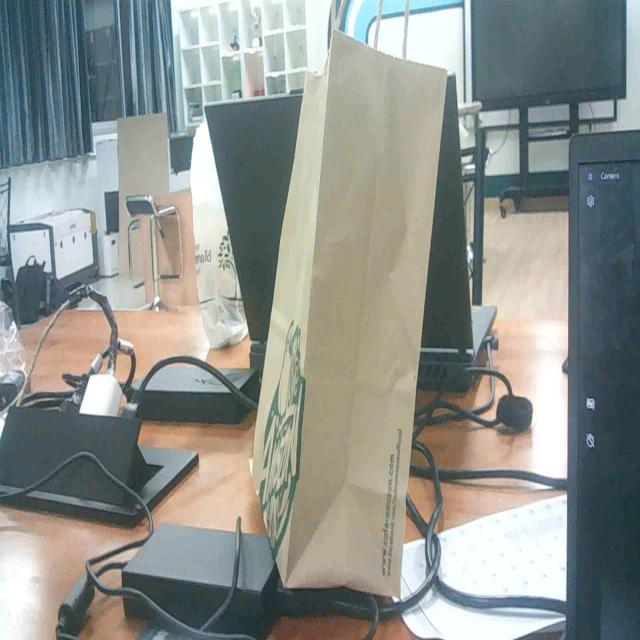bag: (233, 0, 455, 634)
